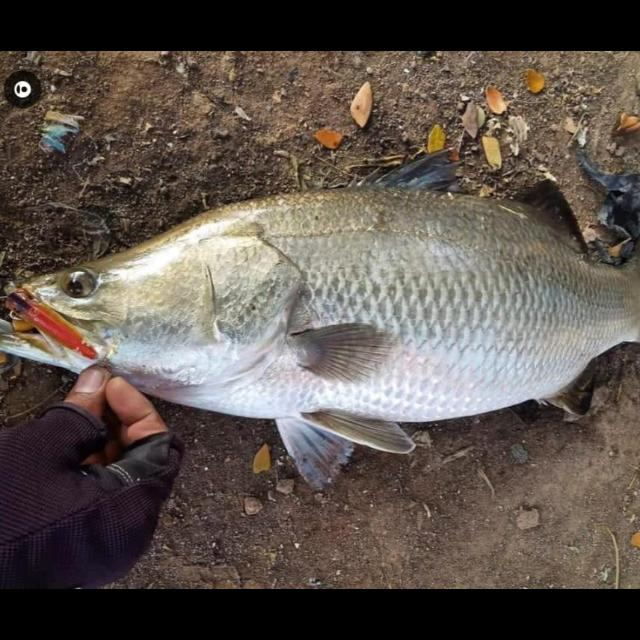Seabass: (6, 146, 640, 490)
